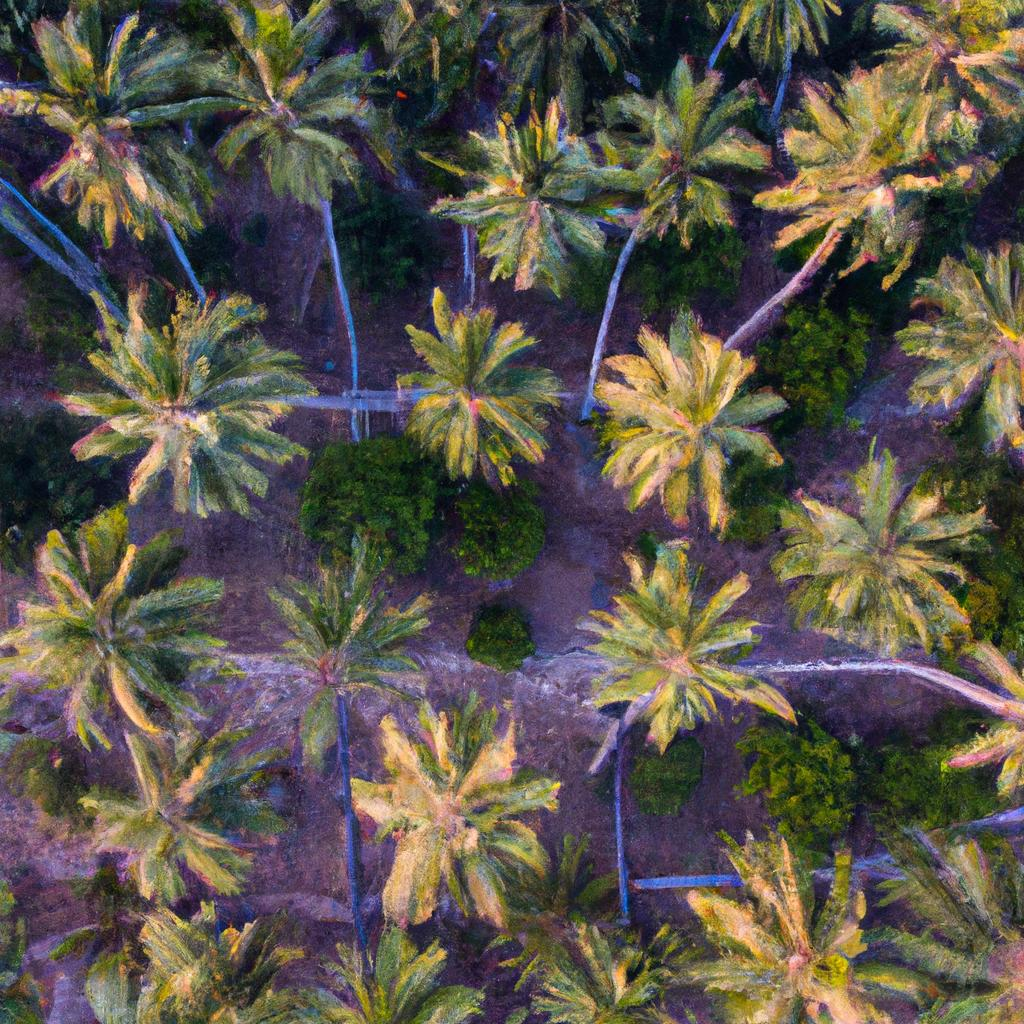coconut_tree: (45, 264, 319, 532), (7, 515, 259, 762), (0, 8, 238, 250), (786, 428, 986, 713), (561, 526, 800, 753), (770, 56, 992, 297), (342, 702, 567, 928), (594, 302, 791, 542), (384, 285, 573, 507), (84, 720, 278, 929), (224, 7, 389, 234), (418, 110, 615, 296), (258, 540, 440, 715)
